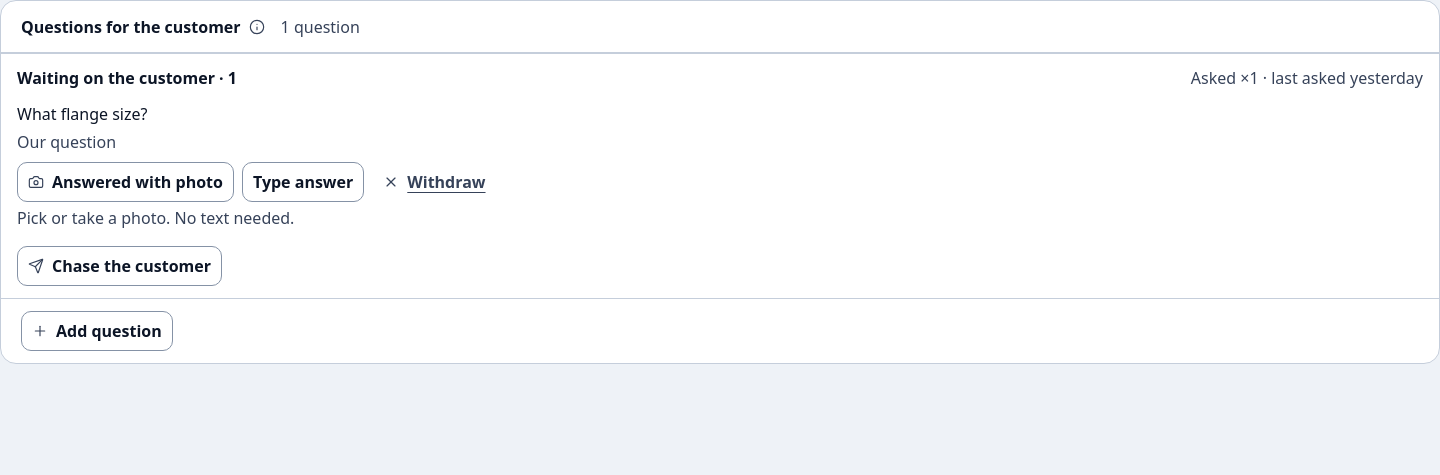
Test: ClarificationsPanel on a phone (grade-A 6 fix 2) › questions waiting on the customer show one "Chase the customer" button that opens the card
Click the button "Chase the customer": (120, 266) [17,246,222,286]
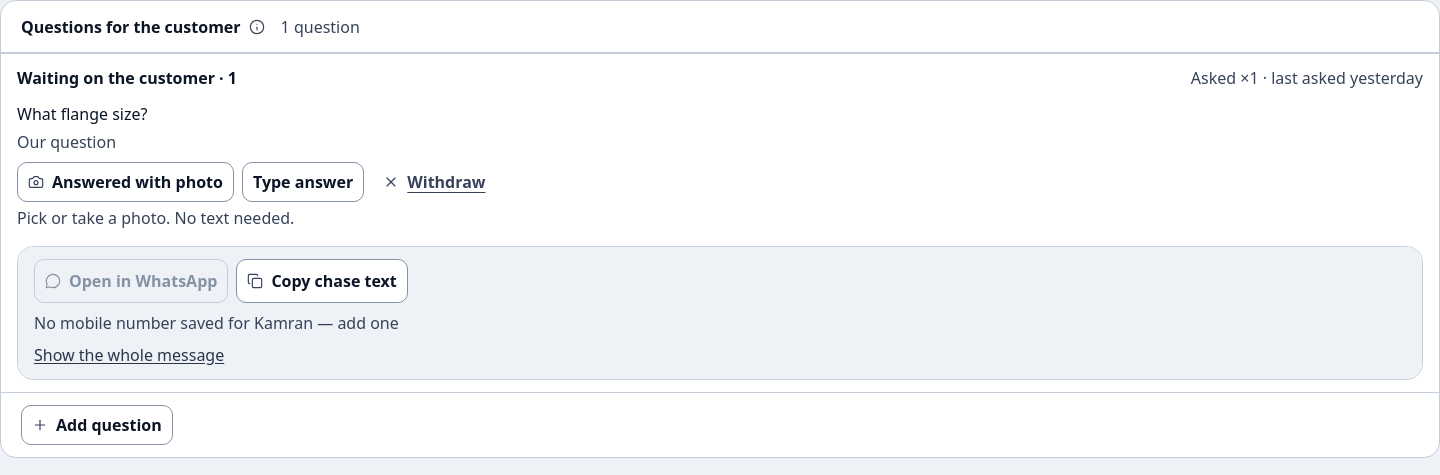
expect the button "Copy chase text" is shown: met, box [236,259,408,303]
expect the button "Chase the customer" is gone: met
